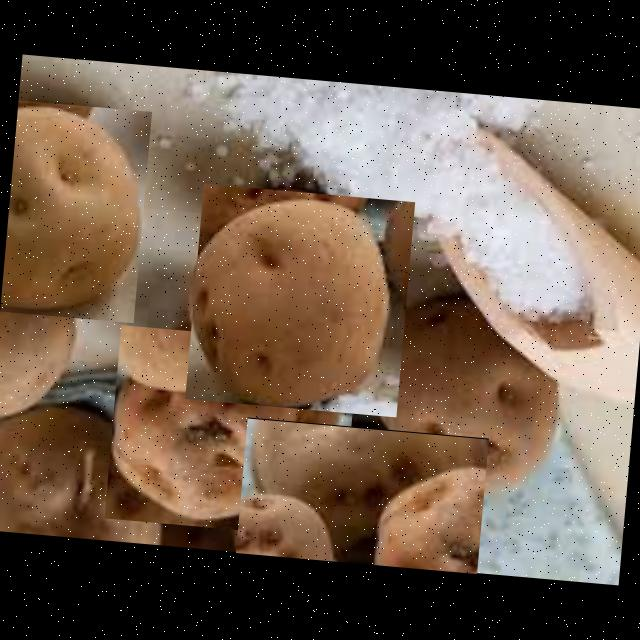Damaged potato: (104, 324, 358, 538), (184, 183, 414, 417), (363, 289, 562, 514), (236, 417, 488, 574), (0, 100, 151, 323)
